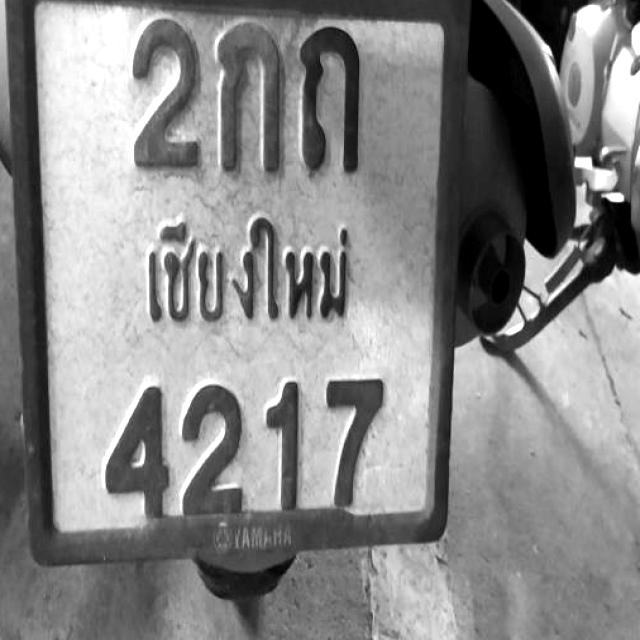letters: (108, 22, 208, 172), (275, 21, 355, 180), (172, 370, 252, 524), (210, 11, 282, 182), (329, 358, 391, 523), (104, 374, 174, 510), (261, 378, 313, 514)
license-plate: (22, 0, 457, 554)
province: (98, 194, 361, 334)
